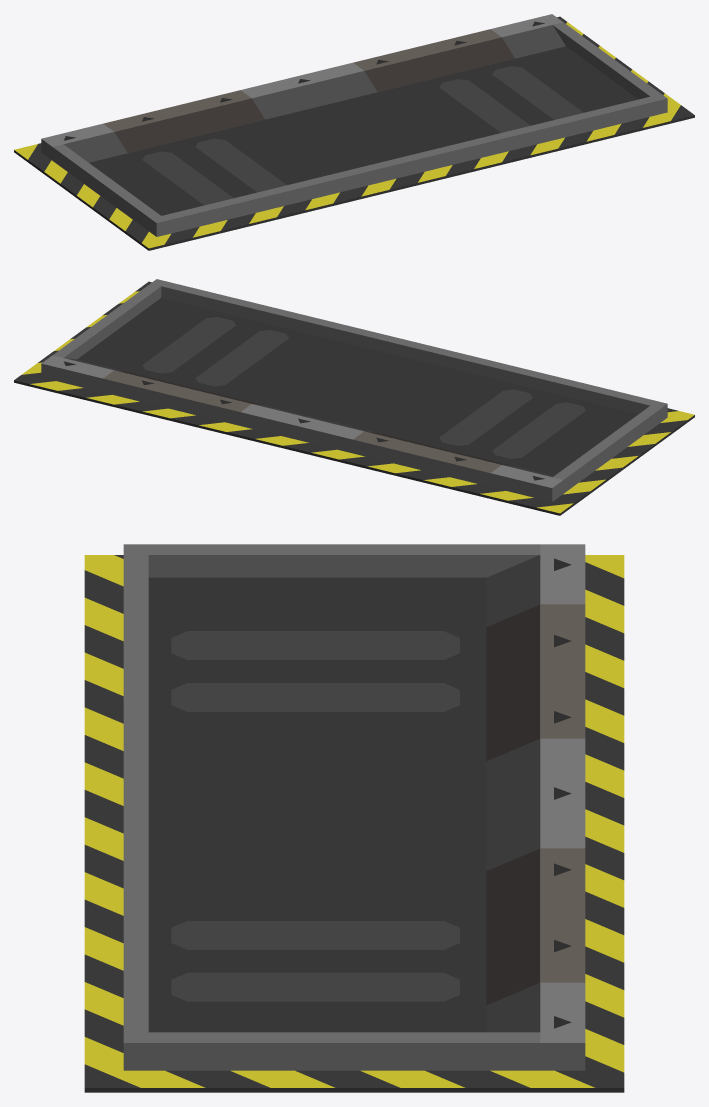
The model's file is vfef_autofarmer_base.obj.
3 renders of one model, top to bottom at view 1: azimuth 30°, elevation 25°; view 2: azimuth 150°, elevation 25°; view 3: azimuth 270°, elevation 25°, orthographic. The views are drawn at different scales.
Parts seen in each view (by area): view 1: vfef_autofarmer_base_6, vfef_autofarmer_base_2, vfef_autofarmer_base_7, vfef_autofarmer_base_9, vfef_autofarmer_base_0, vfef_autofarmer_base_8, vfef_autofarmer_base_1, vfef_autofarmer_base_4, vfef_autofarmer_base_3; view 2: vfef_autofarmer_base_6, vfef_autofarmer_base_2, vfef_autofarmer_base_7, vfef_autofarmer_base_0, vfef_autofarmer_base_1, vfef_autofarmer_base_4, vfef_autofarmer_base_3, vfef_autofarmer_base_9, vfef_autofarmer_base_8; view 3: vfef_autofarmer_base_6, vfef_autofarmer_base_2, vfef_autofarmer_base_7, vfef_autofarmer_base_0, vfef_autofarmer_base_1, vfef_autofarmer_base_9, vfef_autofarmer_base_4, vfef_autofarmer_base_8, vfef_autofarmer_base_3, vfef_autofarmer_base_5.
Boxes of the visible parts, x1,y1,x2,y2 form: vfef_autofarmer_base_6: (89, 46, 638, 215); vfef_autofarmer_base_2: (41, 22, 667, 236); vfef_autofarmer_base_7: (142, 66, 583, 205); vfef_autofarmer_base_9: (114, 37, 514, 152); vfef_autofarmer_base_0: (14, 16, 694, 250); vfef_autofarmer_base_8: (64, 25, 565, 162); vfef_autofarmer_base_1: (14, 22, 680, 248); vfef_autofarmer_base_4: (103, 29, 501, 131); vfef_autofarmer_base_3: (41, 14, 562, 146); vfef_autofarmer_base_6: (77, 298, 638, 475); vfef_autofarmer_base_2: (41, 279, 667, 501); vfef_autofarmer_base_7: (142, 317, 585, 458); vfef_autofarmer_base_0: (14, 281, 694, 515); vfef_autofarmer_base_1: (21, 291, 694, 513); vfef_autofarmer_base_4: (103, 370, 500, 472); vfef_autofarmer_base_3: (41, 355, 562, 487); vfef_autofarmer_base_9: (116, 370, 513, 466); vfef_autofarmer_base_8: (64, 358, 553, 477); vfef_autofarmer_base_6: (148, 577, 486, 1032); vfef_autofarmer_base_2: (123, 544, 585, 1070); vfef_autofarmer_base_7: (171, 631, 459, 1001); vfef_autofarmer_base_0: (84, 555, 624, 1092); vfef_autofarmer_base_1: (84, 555, 624, 1087); vfef_autofarmer_base_9: (486, 604, 539, 1005); vfef_autofarmer_base_4: (540, 604, 585, 982); vfef_autofarmer_base_8: (486, 555, 540, 1032); vfef_autofarmer_base_3: (540, 544, 585, 1042); vfef_autofarmer_base_5: (554, 558, 571, 1028).
Bounding box in the file's own units: 6.99 × 0.2 × 2.99.
